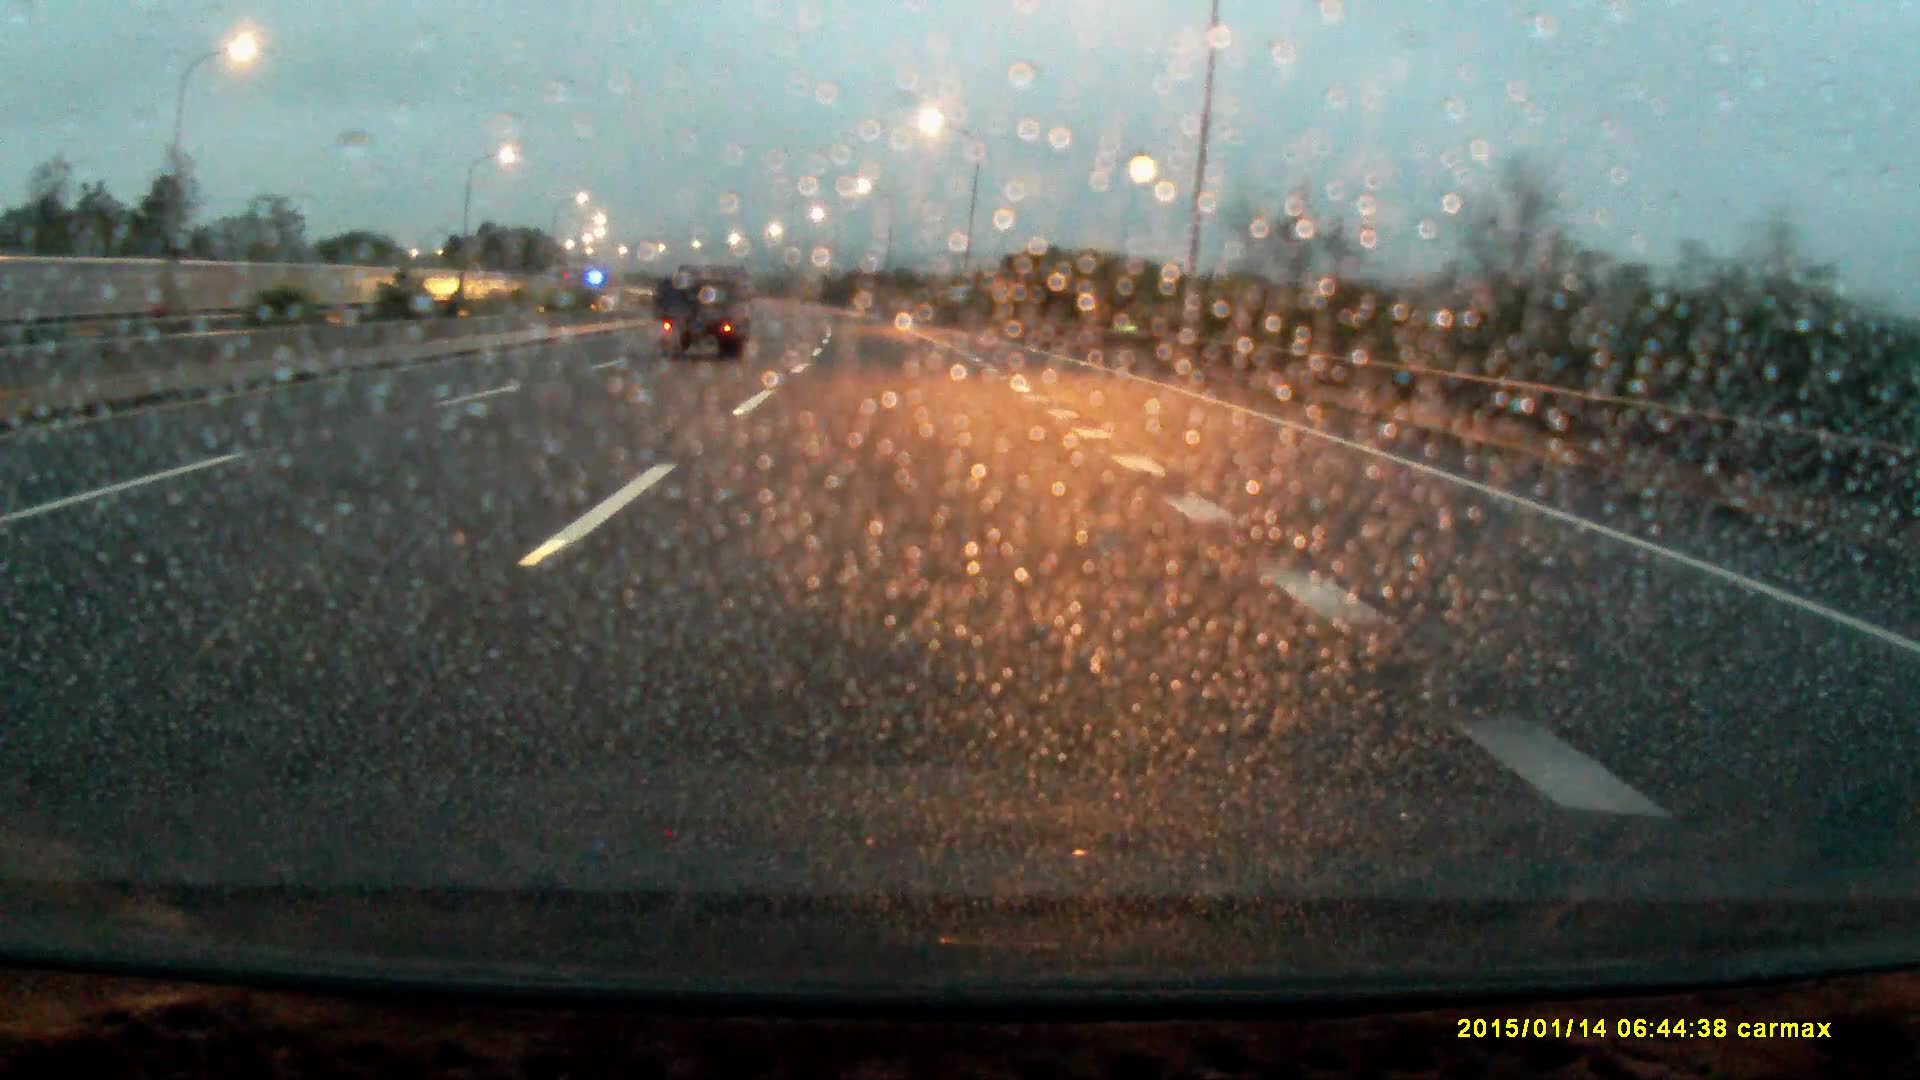vehicle: (659, 261, 754, 363)
